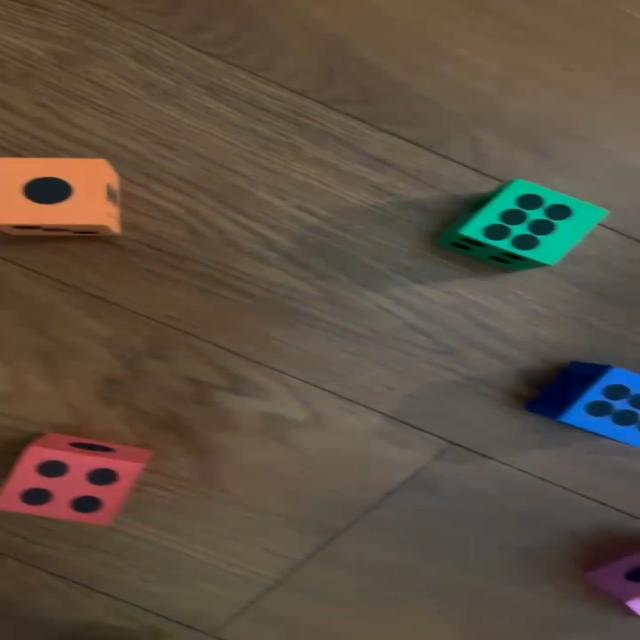blue_block: (529, 362, 640, 447)
red_block: (0, 433, 148, 528)
